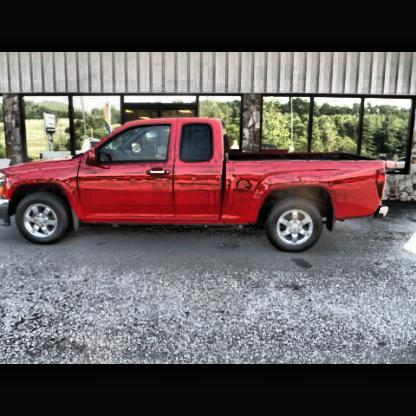GMC Canyon Extended Cab 2012: (2, 120, 390, 255)
